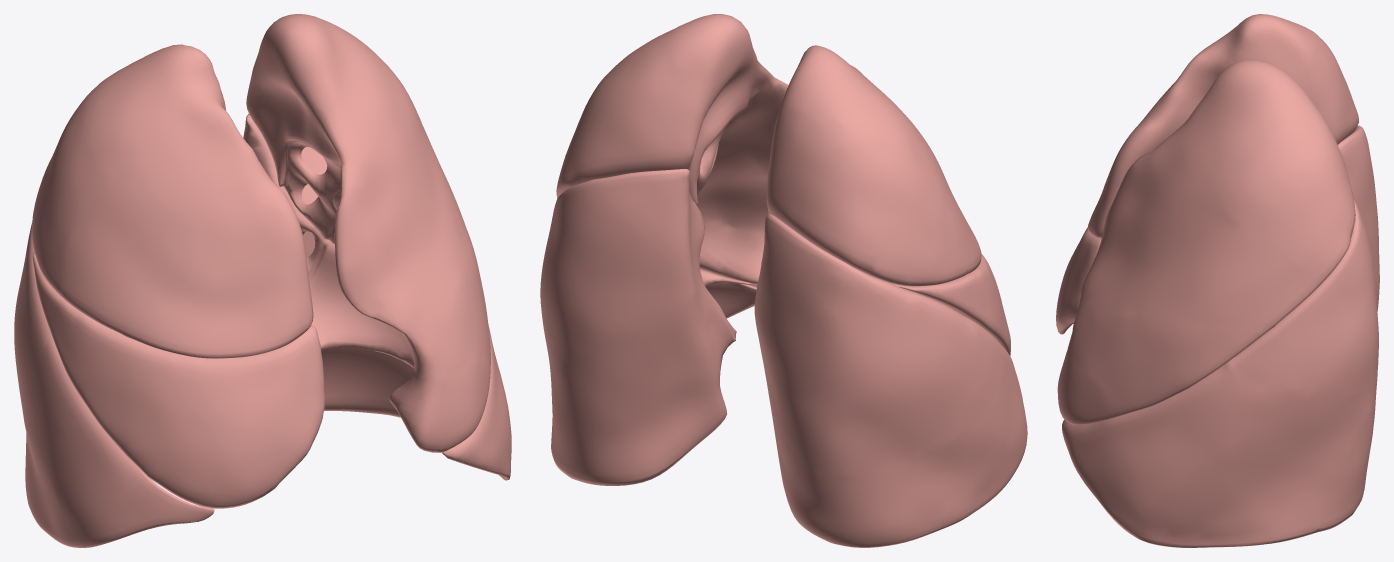
The model's file is arbre-bronchique.glb.
3 renders of one model, left to right at view 1: azimuth 30°, elevation 25°; view 2: azimuth 150°, elevation 25°; view 3: azimuth 270°, elevation 25°, orthographic. The views are drawn at different scales.
Visible parts, largest first — view 1: Superior lobe of right lung, Superior lobe of left lung, Middle lobe of right lung, Inferior lobe of right lung, Inferior lobe of left lung; view 2: Inferior lobe of right lung, Inferior lobe of left lung, Superior lobe of left lung, Superior lobe of right lung, Middle lobe of right lung; view 3: Superior lobe of left lung, Inferior lobe of left lung, Superior lobe of right lung, Inferior lobe of right lung, Middle lobe of right lung.
Boxes of the visible parts, x1=… form: Superior lobe of right lung: x1=32, y1=44, x2=313, y2=358; Superior lobe of left lung: x1=246, y1=14, x2=490, y2=452; Middle lobe of right lung: x1=32, y1=252, x2=324, y2=508; Inferior lobe of right lung: x1=14, y1=223, x2=214, y2=547; Inferior lobe of left lung: x1=243, y1=114, x2=511, y2=480; Inferior lobe of right lung: x1=754, y1=214, x2=1027, y2=547; Inferior lobe of left lung: x1=540, y1=169, x2=756, y2=485; Superior lobe of left lung: x1=556, y1=14, x2=788, y2=287; Superior lobe of right lung: x1=766, y1=45, x2=981, y2=286; Middle lobe of right lung: x1=889, y1=254, x2=1010, y2=355; Superior lobe of left lung: x1=1057, y1=59, x2=1355, y2=424; Inferior lobe of left lung: x1=1062, y1=199, x2=1378, y2=547; Superior lobe of right lung: x1=1088, y1=14, x2=1358, y2=237; Inferior lobe of right lung: x1=1073, y1=125, x2=1379, y2=323; Middle lobe of right lung: x1=1056, y1=227, x2=1101, y2=334.
Bounding box in the file's own units: 0.261 × 0.264 × 0.1857.
